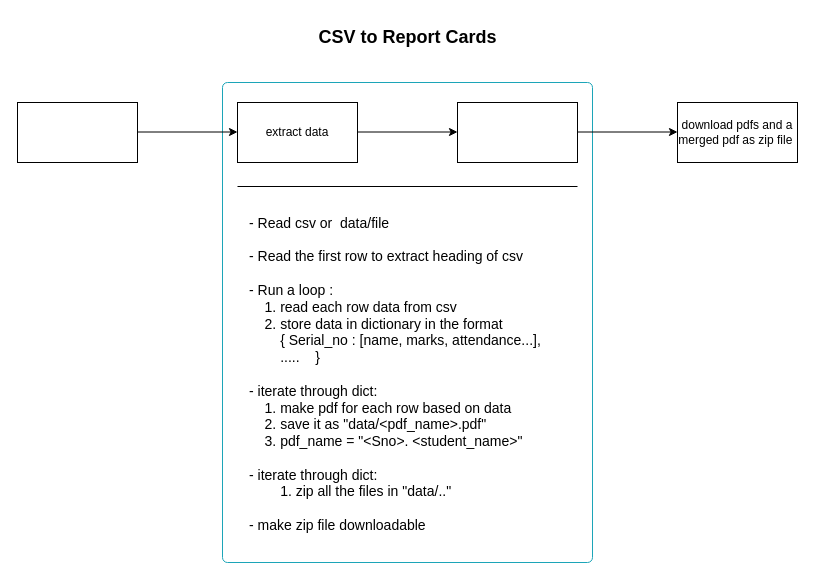
This 815x580 diagram has some shape labels left out. Each missing label, with the box of its shape:
form multiple pdfs based on data: (456, 102, 578, 162)
upload file in required format: (16, 102, 138, 162)
